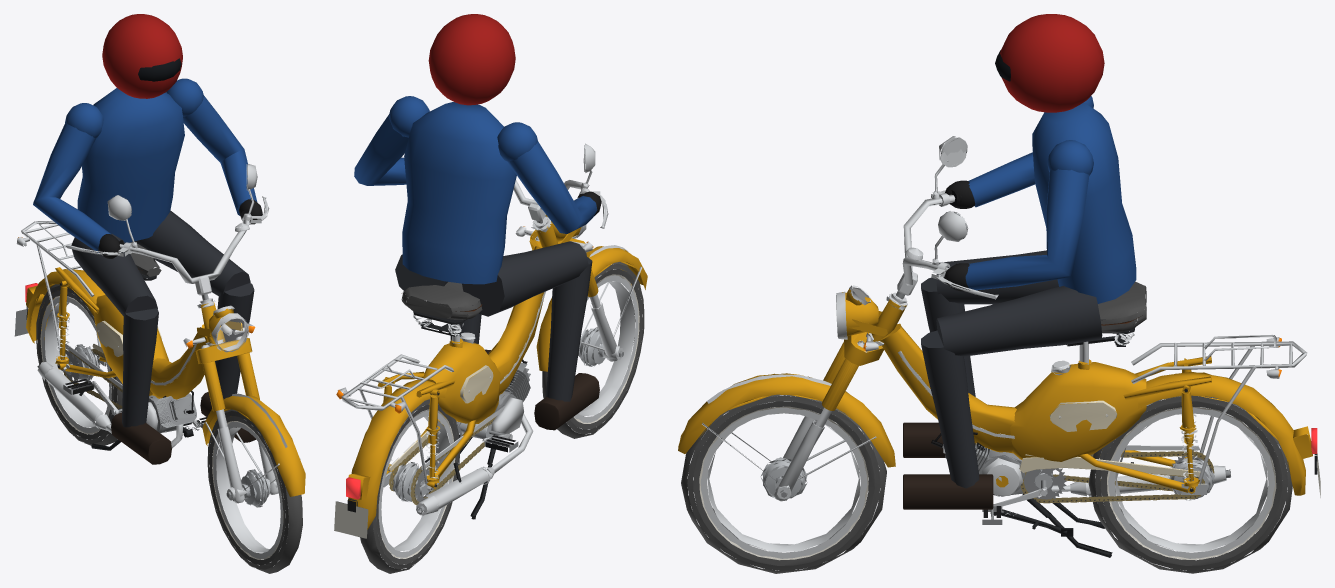
Rendered from vb_moped.glb.
3 renders of one model, left to right at view 1: azimuth 30°, elevation 25°; view 2: azimuth 150°, elevation 25°; view 3: azimuth 270°, elevation 25°, orthographic. The views are drawn at different scales.
Parts seen in each view (by area): view 1: rider_torso, body, rider_legs, fork, wheel_front, rider_head, wheel_rear; view 2: body, rider_torso, rider_legs, rider_head, wheel_front, wheel_rear, fork; view 3: body, rider_torso, rider_legs, fork, wheel_front, wheel_rear, rider_head.
Part boxes in pixels (<box>): rider_torso: <box>33,78,262,258</box>; body: <box>14,220,225,450</box>; rider_legs: <box>71,210,255,464</box>; fork: <box>65,164,305,503</box>; wheel_front: <box>207,409,302,573</box>; rider_head: <box>102,14,182,98</box>; wheel_rear: <box>36,284,122,445</box>; body: <box>334,216,557,538</box>; rider_torso: <box>354,96,601,284</box>; rider_legs: <box>395,241,599,430</box>; rider_head: <box>428,14,515,105</box>; wheel_front: <box>542,262,644,438</box>; wheel_rear: <box>360,399,459,573</box>; fork: <box>513,143,647,371</box>; body: <box>866,281,1320,557</box>; rider_torso: <box>944,96,1136,303</box>; rider_legs: <box>903,250,1102,509</box>; fork: <box>678,136,998,501</box>; wheel_front: <box>681,394,886,573</box>; wheel_rear: <box>1088,395,1292,573</box>; rider_head: <box>995,14,1104,112</box>.
Size of the model in its own units: 0.7992 by 1.7 by 1.79.
